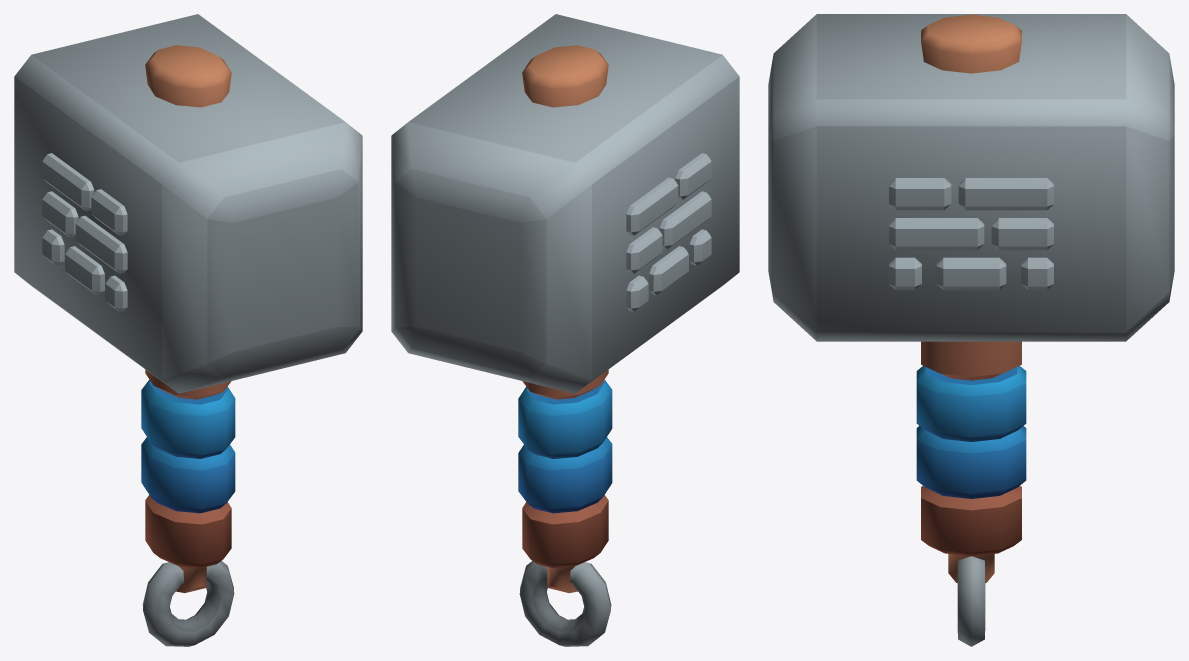
File: Paladin_Hammer.glb
3 views of the same model, side by side, from view 1: azimuth 30°, elevation 25°; view 2: azimuth 150°, elevation 25°; view 3: azimuth 270°, elevation 25° (orthographic). The views are drawn at different scales.
Parts seen in each view (by area): view 1: paladin_hammer; view 2: paladin_hammer; view 3: paladin_hammer.
Part boxes in pixels (x1,y1,x2,y2): paladin_hammer: (14, 14, 362, 646); paladin_hammer: (391, 14, 739, 646); paladin_hammer: (768, 14, 1174, 646).
Bounding box in the file's own units: 0.4334 × 1.1 × 0.6612.
2 materials, 2 textured.
